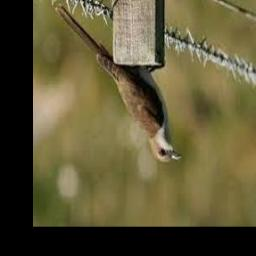Cuckoo: (56, 6, 182, 162)
